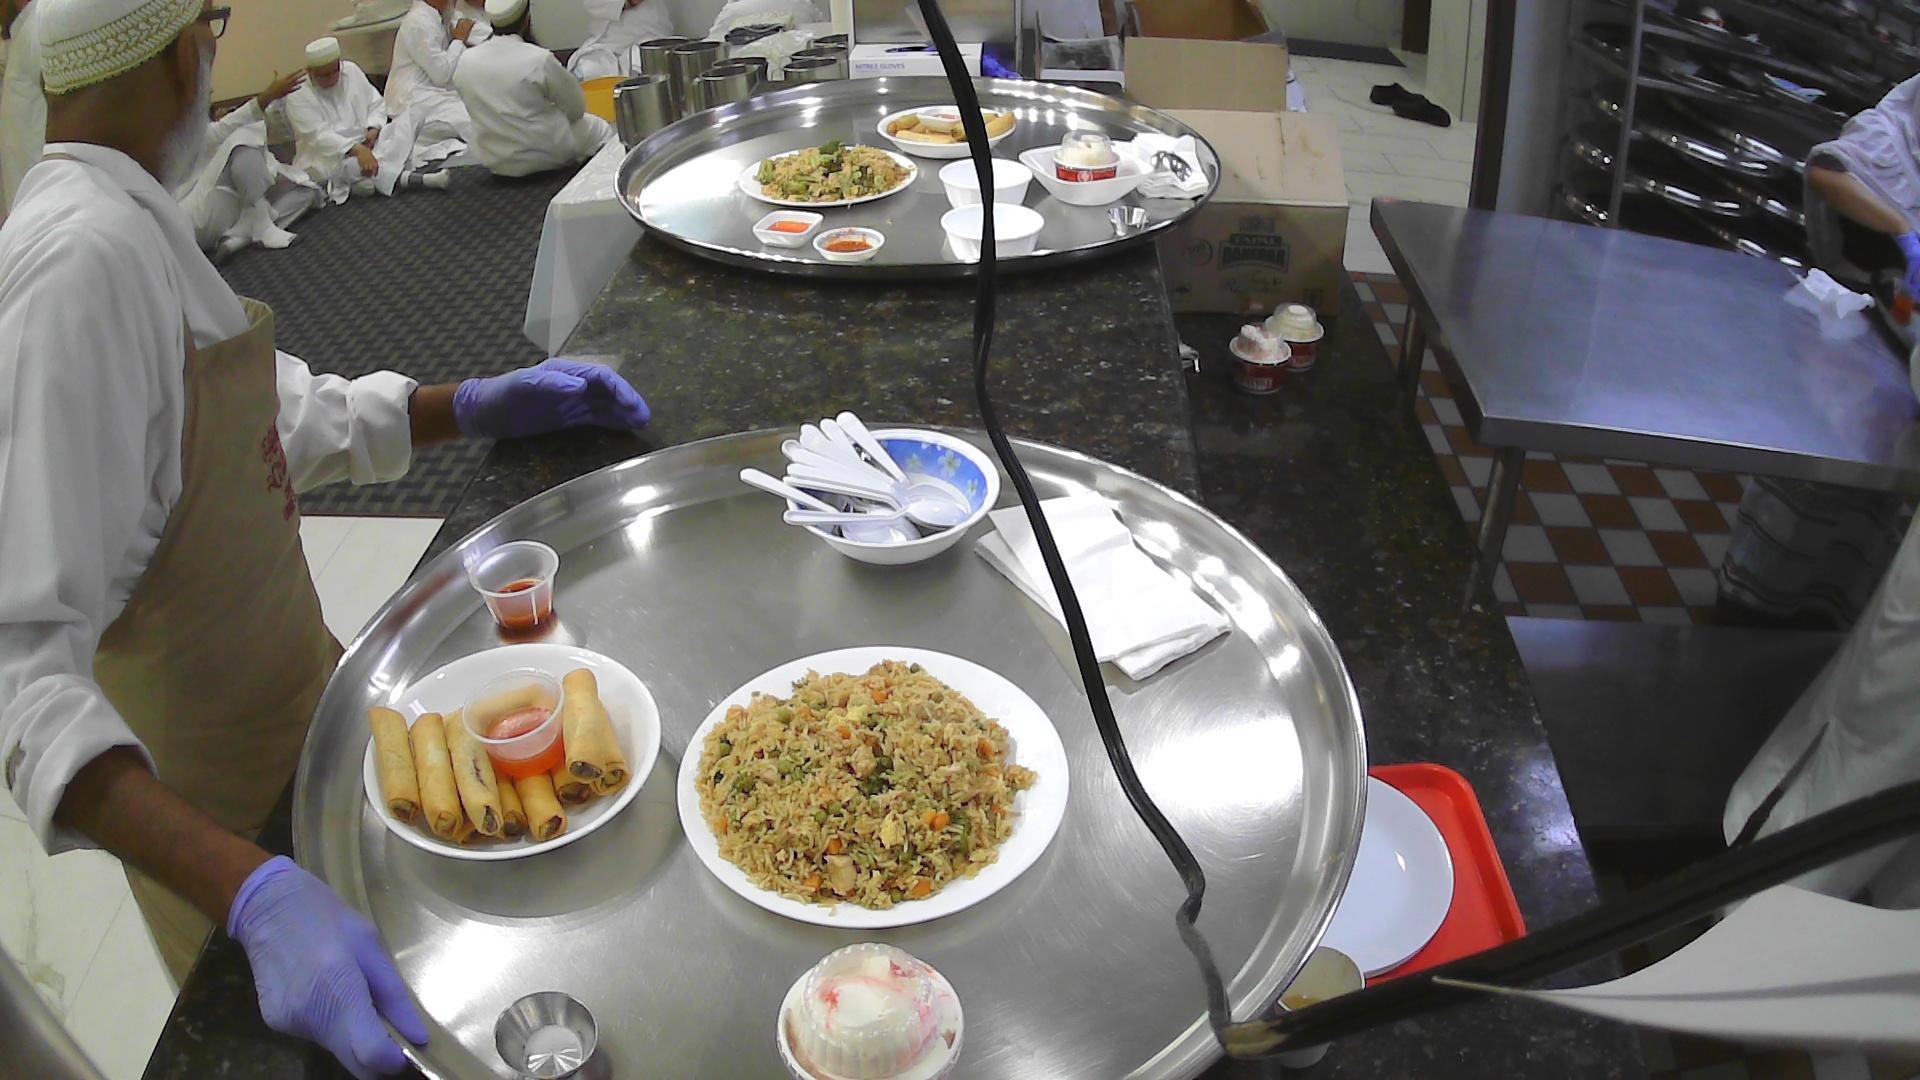thaal: (286, 414, 1375, 1080), (616, 70, 1225, 284)
